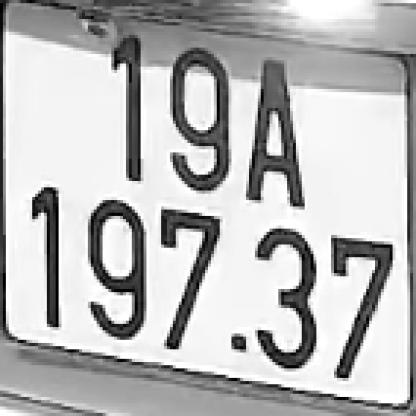1: (102, 38, 152, 181), (30, 188, 74, 330)
3: (255, 226, 313, 365)
7: (328, 235, 393, 378), (161, 210, 220, 343)
9: (167, 48, 231, 197), (85, 203, 149, 337)
A: (243, 54, 308, 206)
